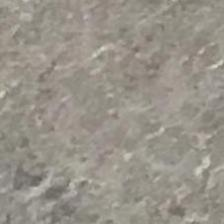Non_Crack: (42, 37, 211, 220)
